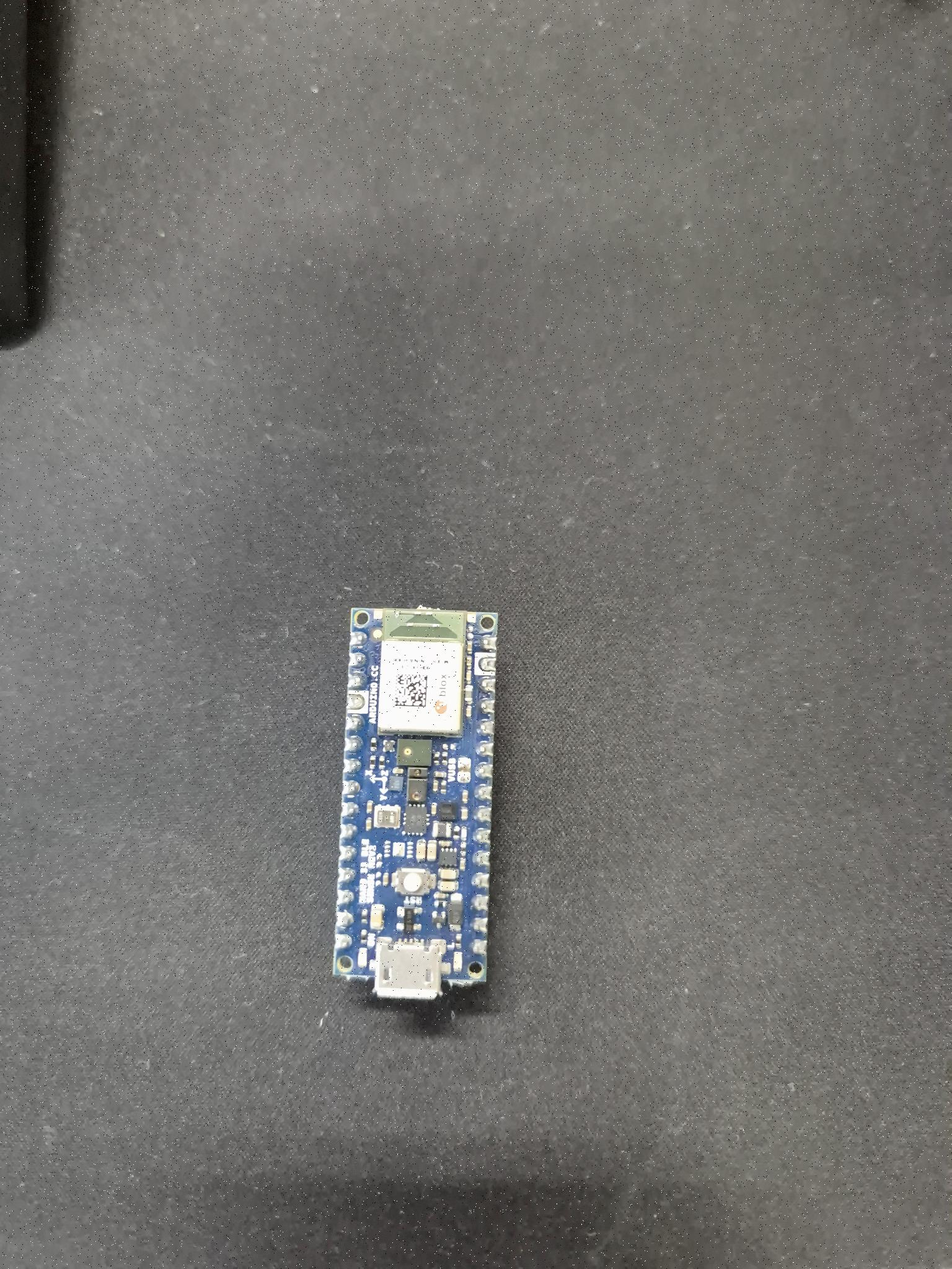arduino-nano-ble-sense: (334, 607, 498, 999)
